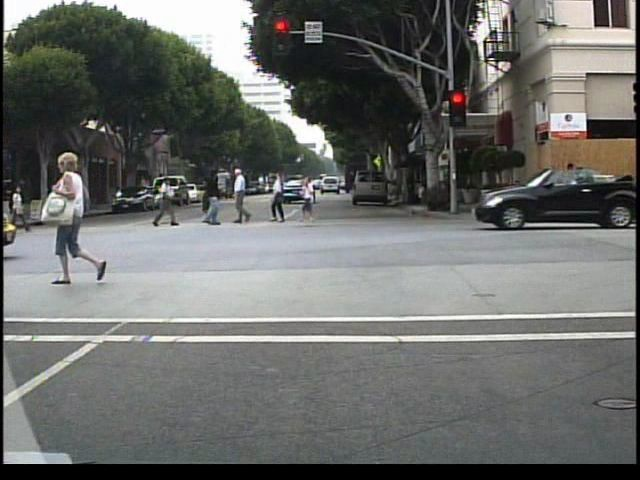person: (52, 149, 108, 290), (199, 166, 228, 231), (231, 166, 259, 227), (150, 172, 176, 230), (6, 181, 31, 236), (269, 173, 294, 227), (198, 174, 222, 228), (15, 193, 43, 239), (557, 156, 579, 214)
